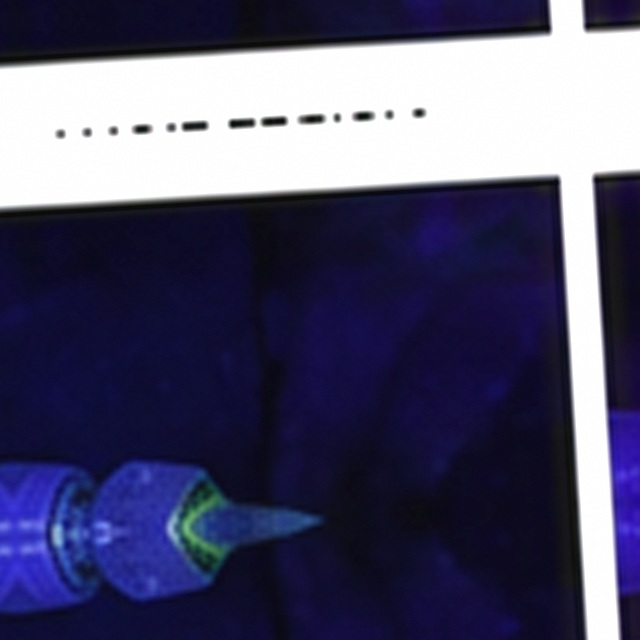hydraulic_oil_leak: (175, 492, 227, 560)
